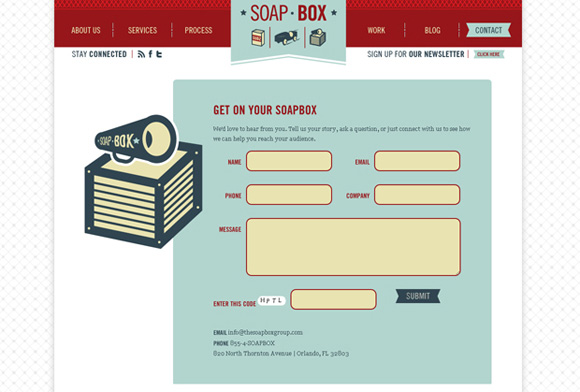_form_: (169, 72, 503, 392)
button: (394, 288, 443, 304)
field: (244, 217, 462, 277), (244, 149, 332, 172), (245, 183, 333, 206), (290, 288, 377, 311), (373, 150, 461, 172), (373, 183, 461, 205)
field_with_label: (219, 215, 464, 279), (213, 286, 379, 312), (347, 181, 463, 206), (227, 147, 334, 174), (354, 147, 462, 173), (225, 182, 335, 207)
